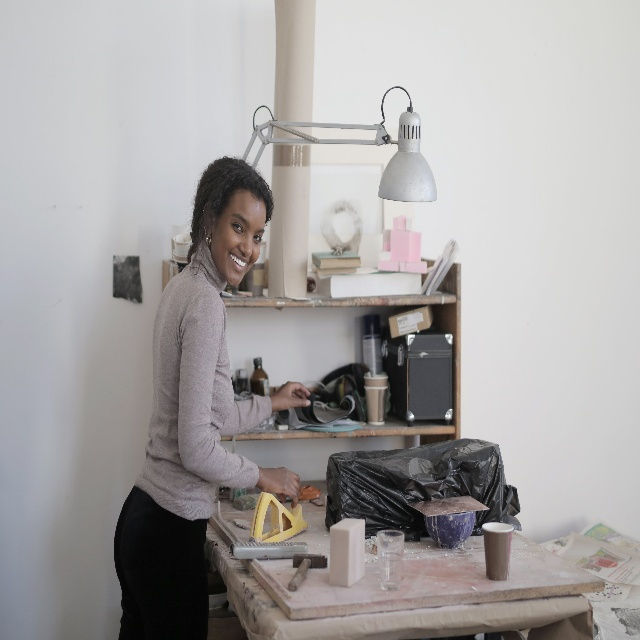Sin_guantes: (259, 467, 301, 509), (271, 379, 311, 412)
